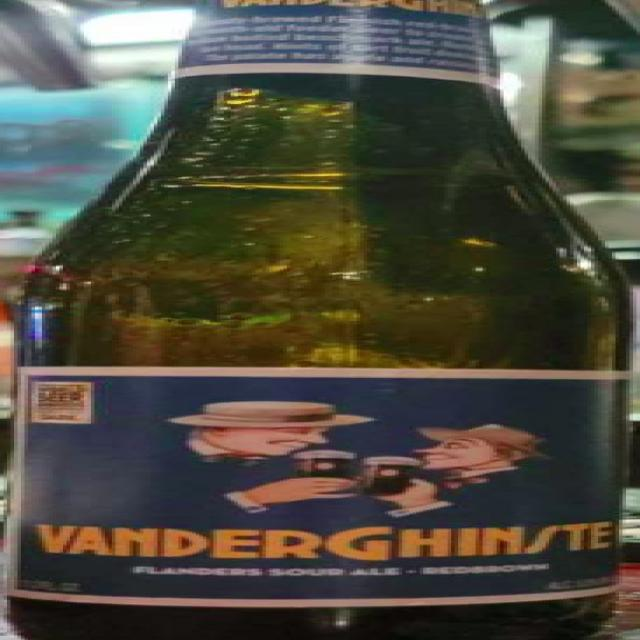VanderGhinste Oud Bruin: (3, 0, 640, 640)
